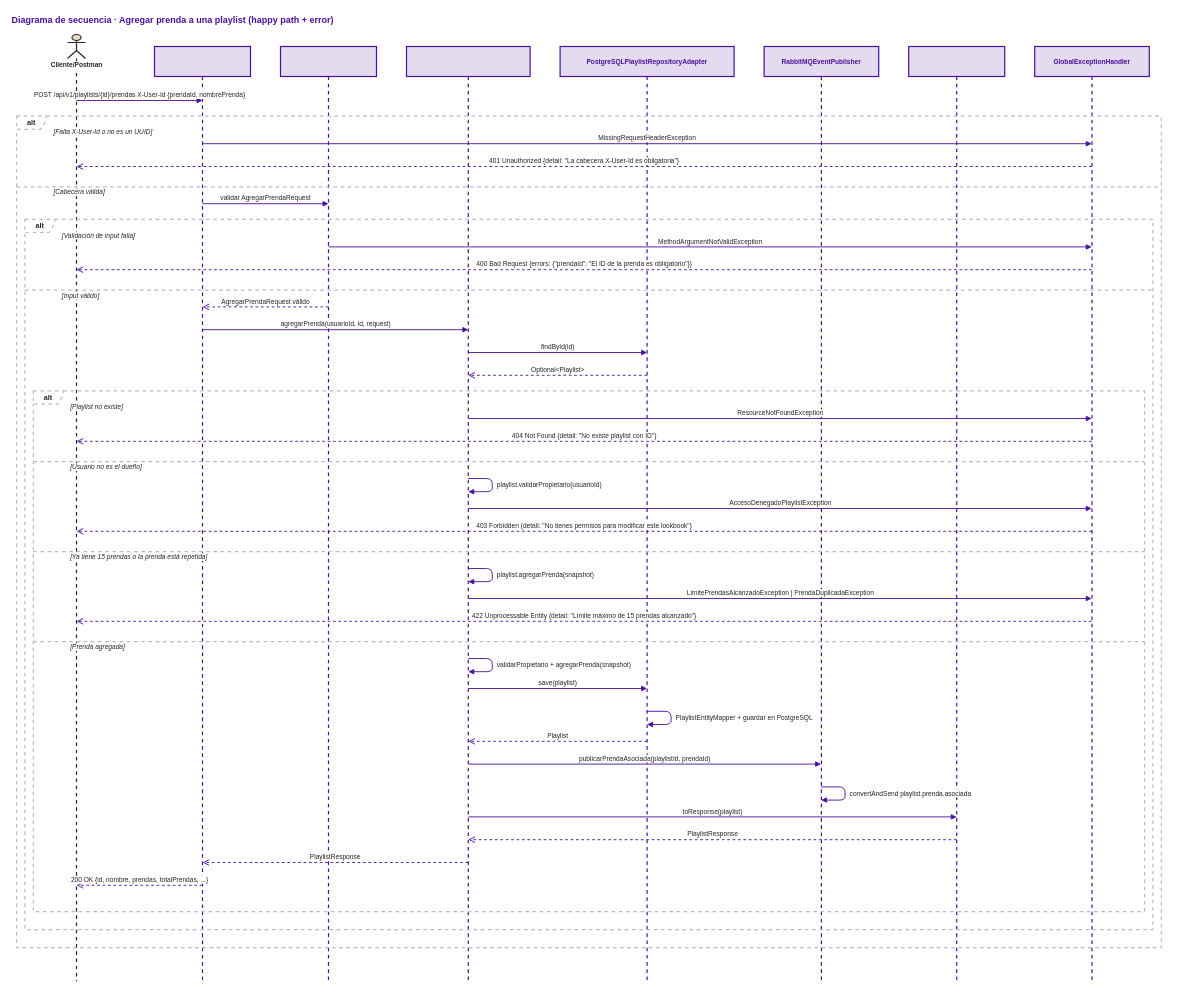
The diagram is 1177 pixels wide and 992 high, and some of its shapes have lost their labels. Here are the shapes that lost their labels. From the top down, the box of each, then its label:
(154, 46, 251, 982): PlaylistController
(280, 46, 377, 982): @Valid (Spring)
(406, 46, 530, 982): AsociarPrendaUseCaseImpl
(908, 46, 1005, 982): PlaylistDtoMapper
